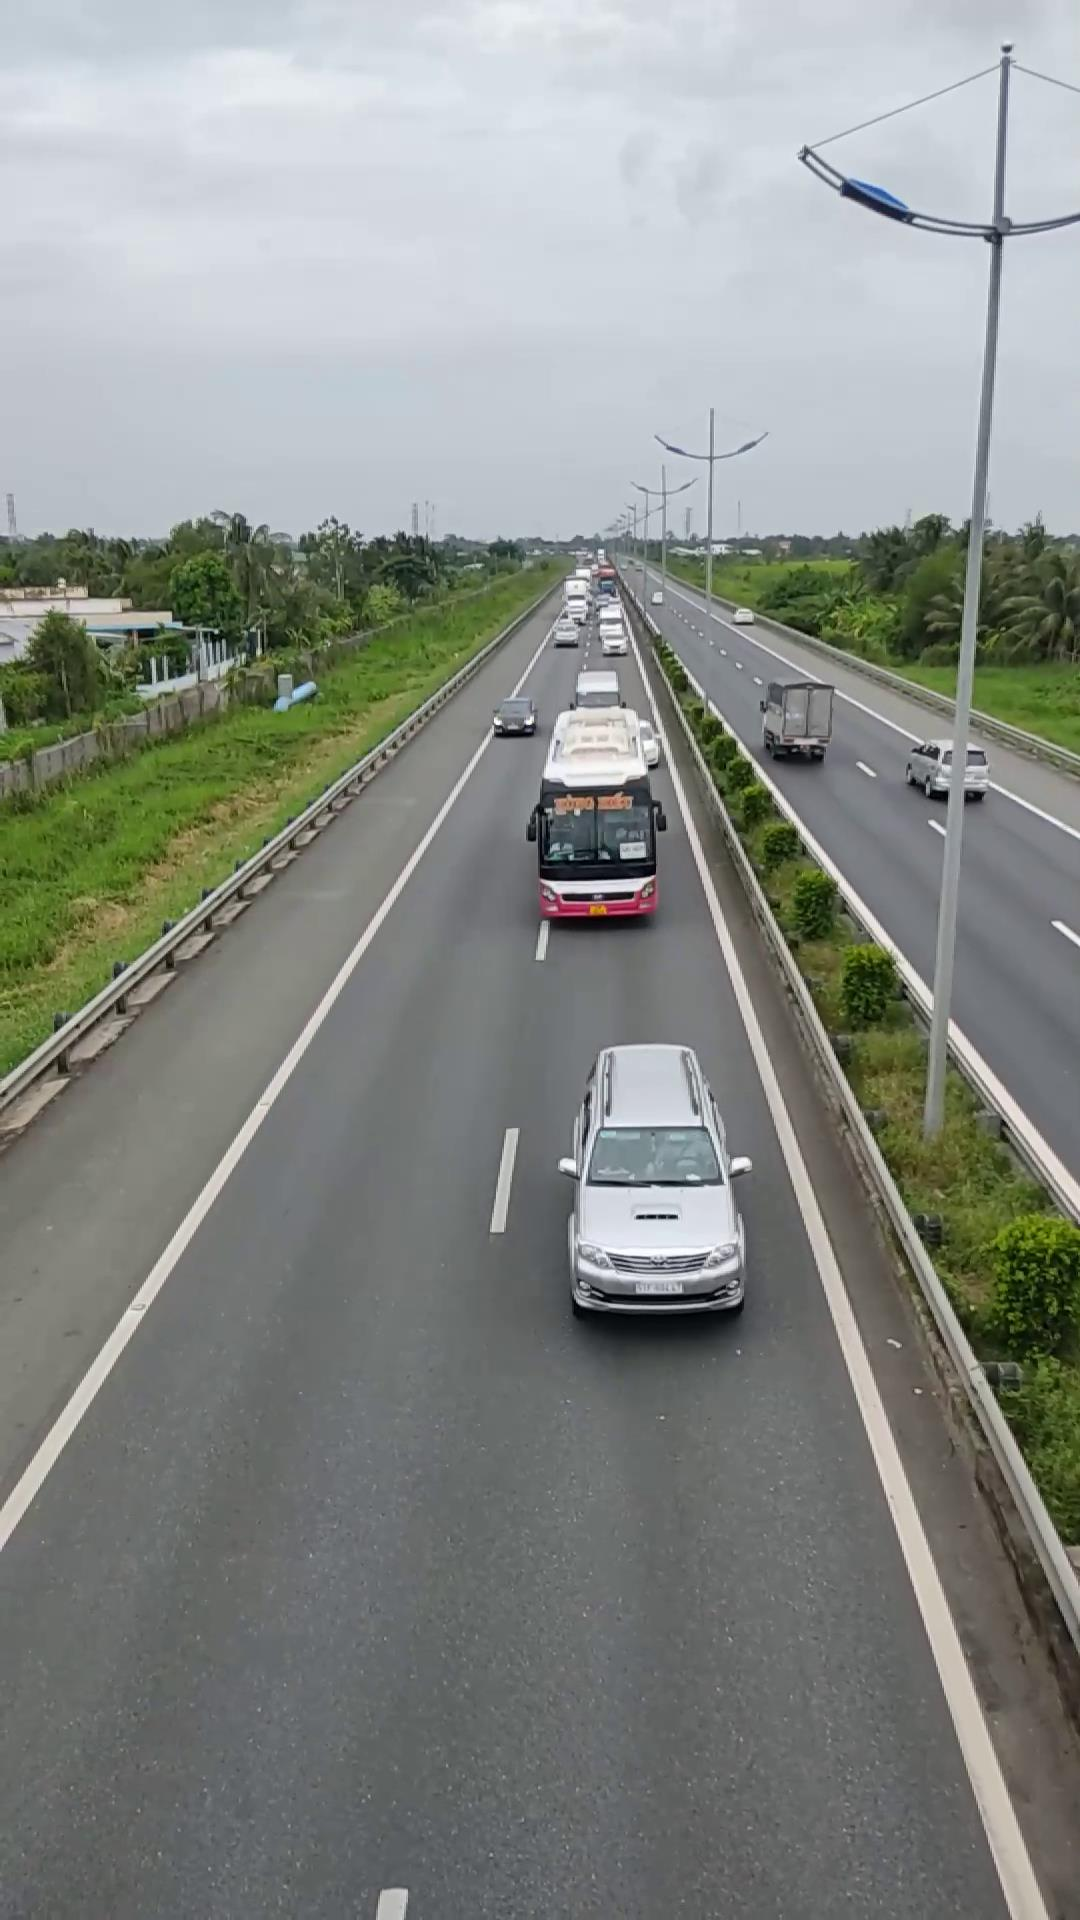bus: (528, 708, 664, 921)
car: (559, 1041, 750, 1318)
truck: (757, 674, 833, 761)
